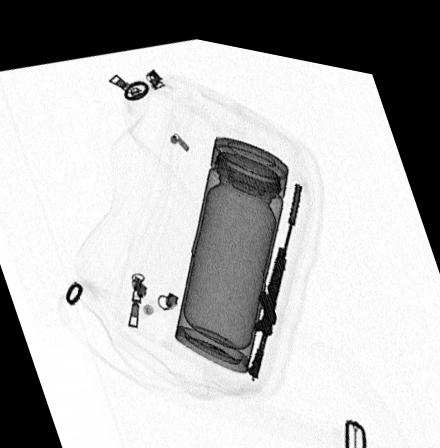Gun: (244, 168, 303, 368)
